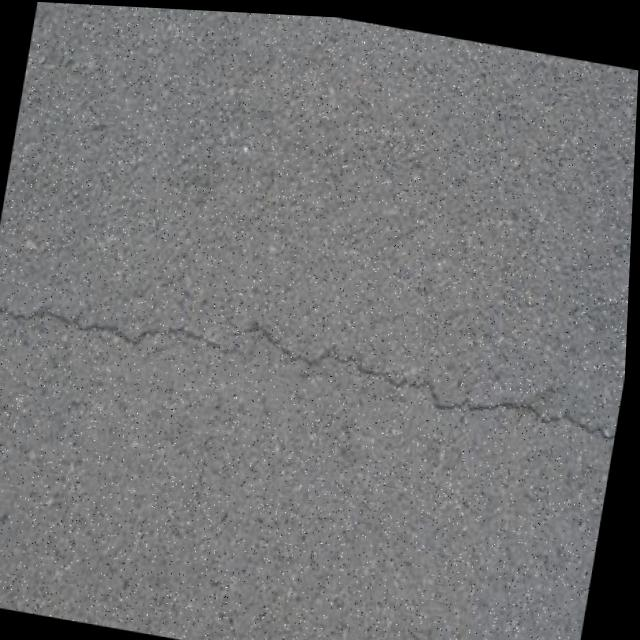Crack: (0, 264, 631, 453)
